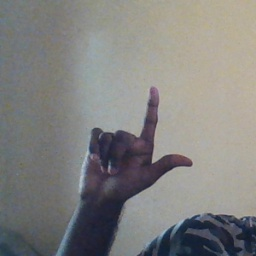L: (78, 85, 198, 199)
